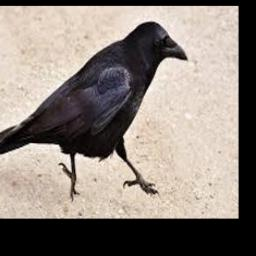Crow: (0, 21, 188, 199)
